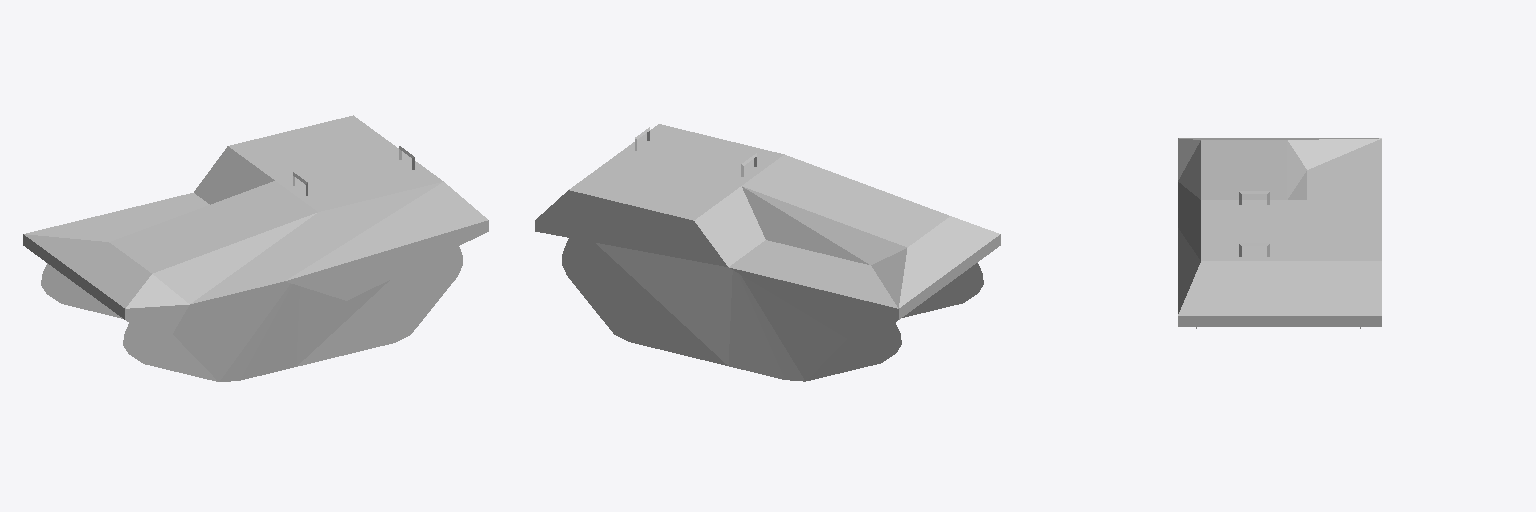
Rendered from treadbaseBR.obj.
The picture shows the model from 3 angles: view 1: azimuth 30°, elevation 25°; view 2: azimuth 150°, elevation 25°; view 3: azimuth 270°, elevation 25°; orthographic projection.
Parts seen in each view (by area): view 1: ungrouped; view 2: ungrouped; view 3: ungrouped.
Part boxes in pixels (x1,y1,x2,y2): ungrouped: (23,115,488,381); ungrouped: (535,124,1000,381); ungrouped: (1178,138,1381,328).
Bounding box in the file's own units: 11.26 × 4.76 × 5.48.